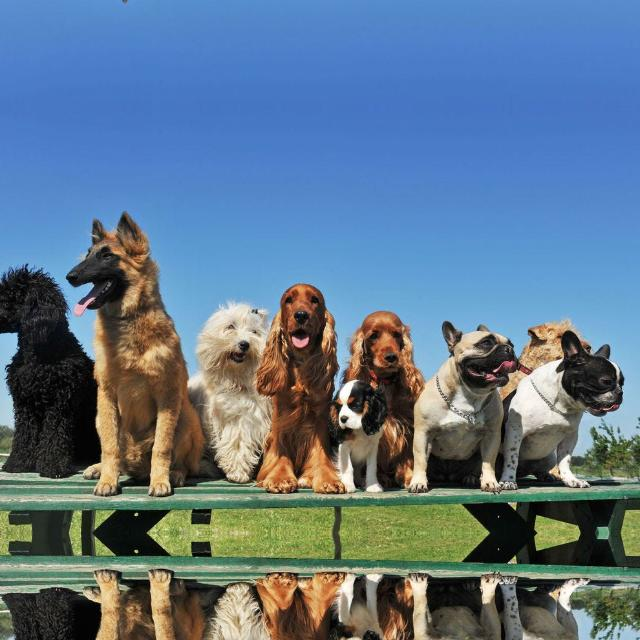dog: (77, 202, 203, 494), (258, 270, 349, 514), (424, 278, 518, 504), (528, 352, 638, 511), (212, 300, 272, 506), (527, 554, 638, 640), (77, 571, 203, 640), (258, 552, 349, 640), (424, 562, 518, 640), (212, 559, 272, 640), (77, 0, 203, 10)
